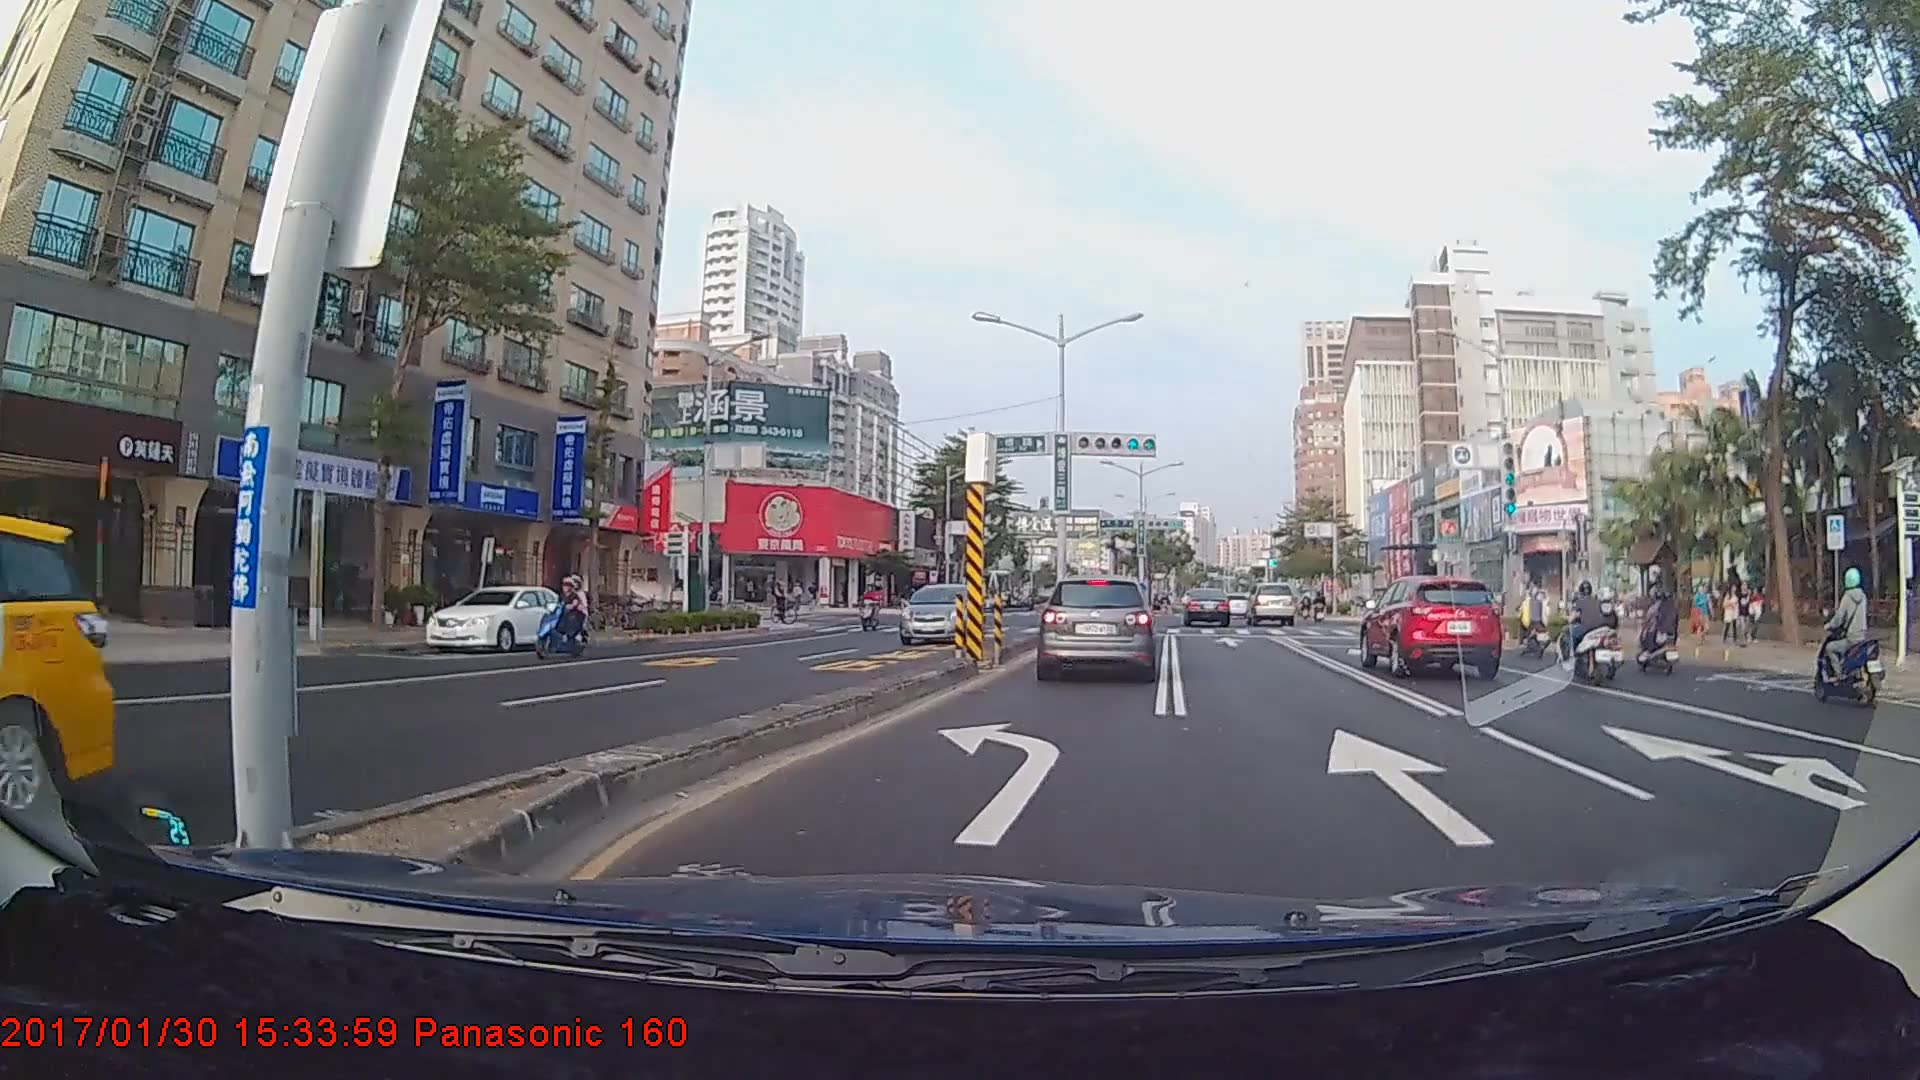pedestrian: (1691, 580, 1715, 648), (1736, 581, 1756, 645), (1723, 581, 1743, 643)
rider: (1806, 567, 1886, 710), (1552, 574, 1621, 680), (525, 572, 593, 663), (1629, 582, 1681, 674), (854, 576, 882, 634), (766, 576, 796, 628)
vehicle: (0, 494, 114, 819), (1360, 570, 1505, 678), (1033, 572, 1158, 682), (423, 583, 583, 652), (896, 581, 983, 642), (1247, 582, 1296, 627), (1182, 586, 1230, 628)
